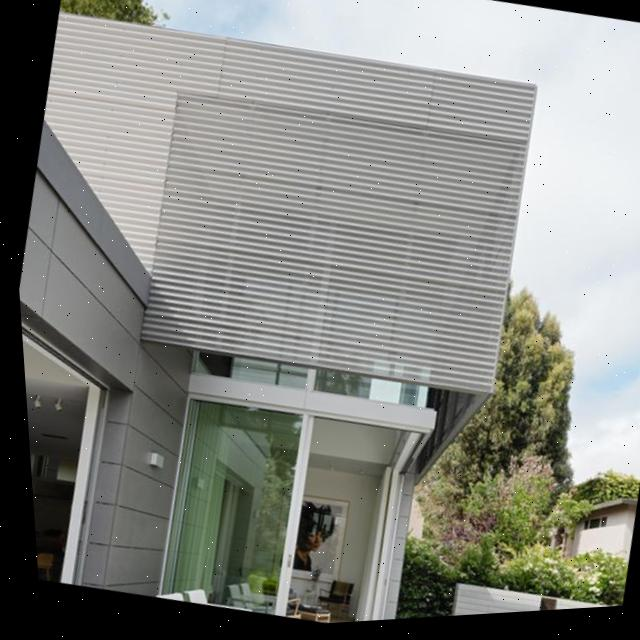building: (1, 0, 573, 640)
